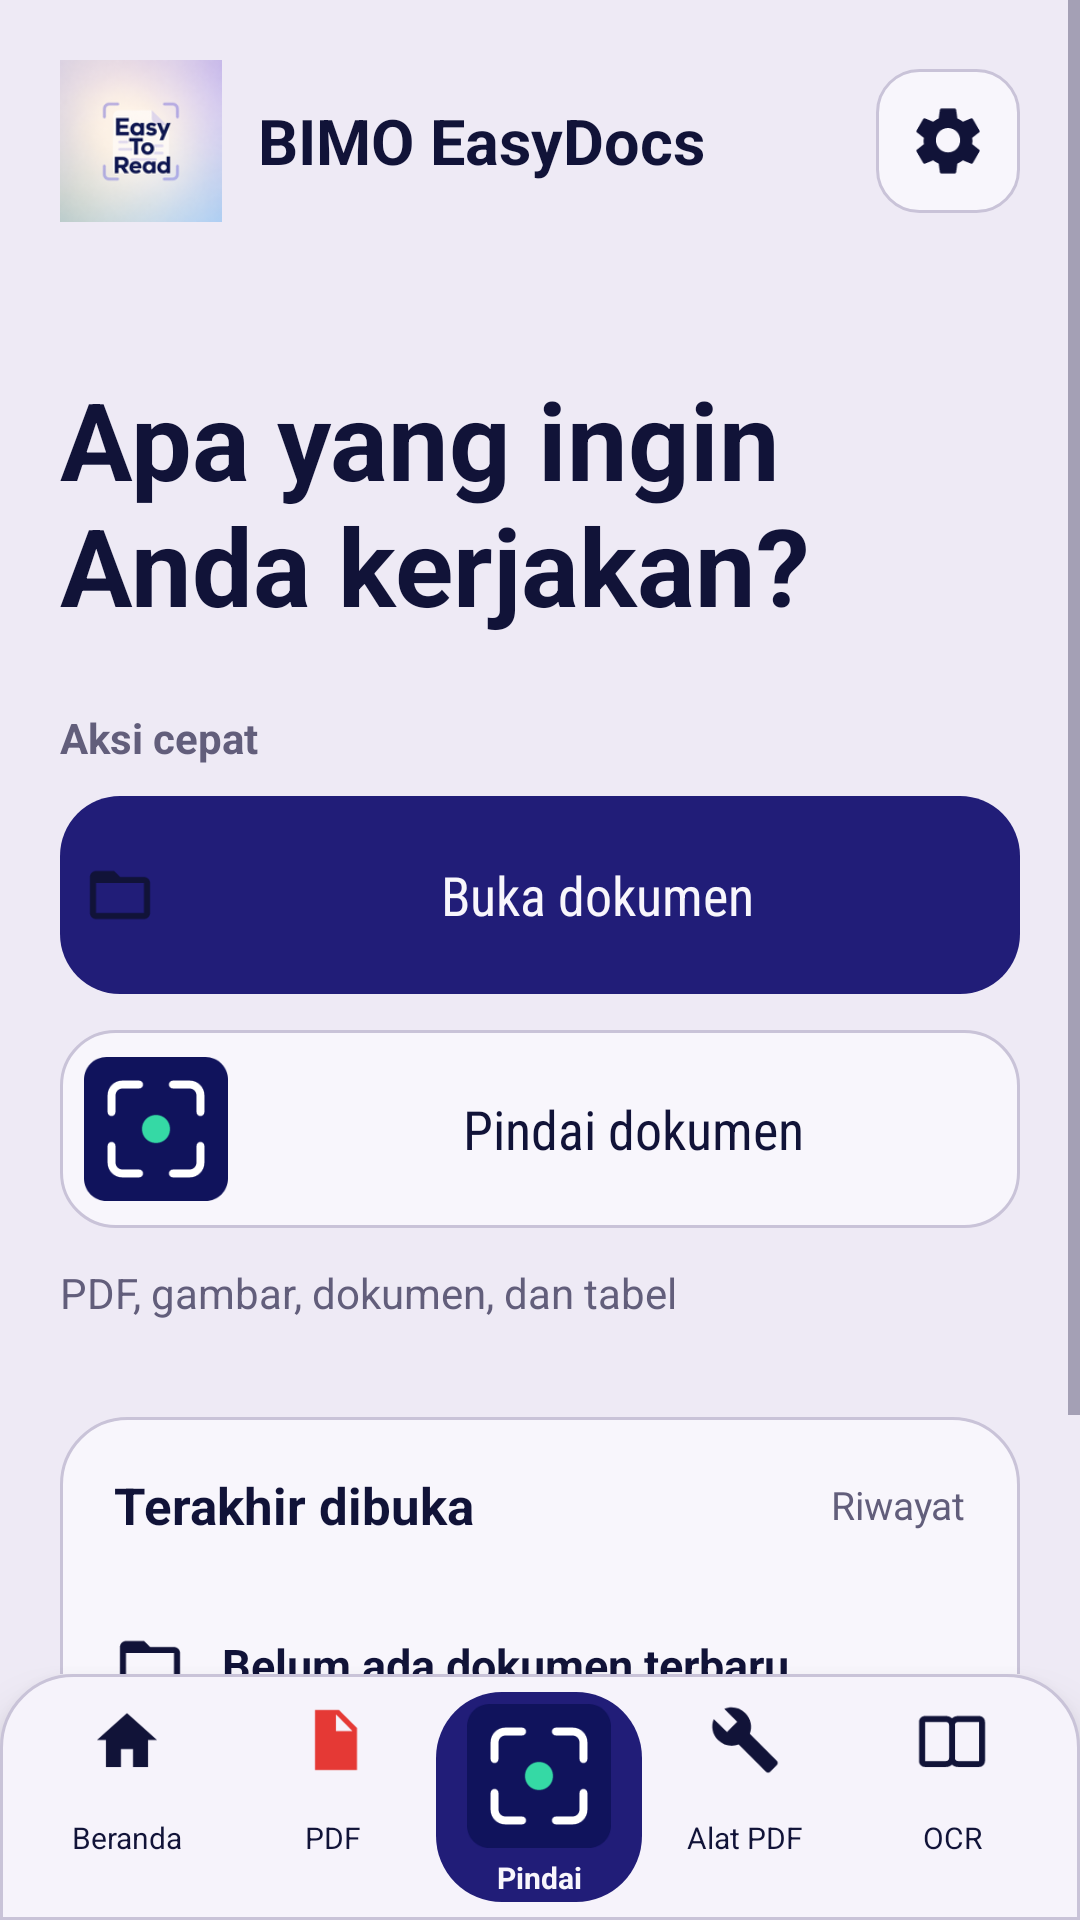

Named icons in this screenshot (1080px x 1920px) and their bounding boxes, bbox=(x1, y1, x2, y2):
Pengaturan: bbox=(876, 69, 1020, 213)
